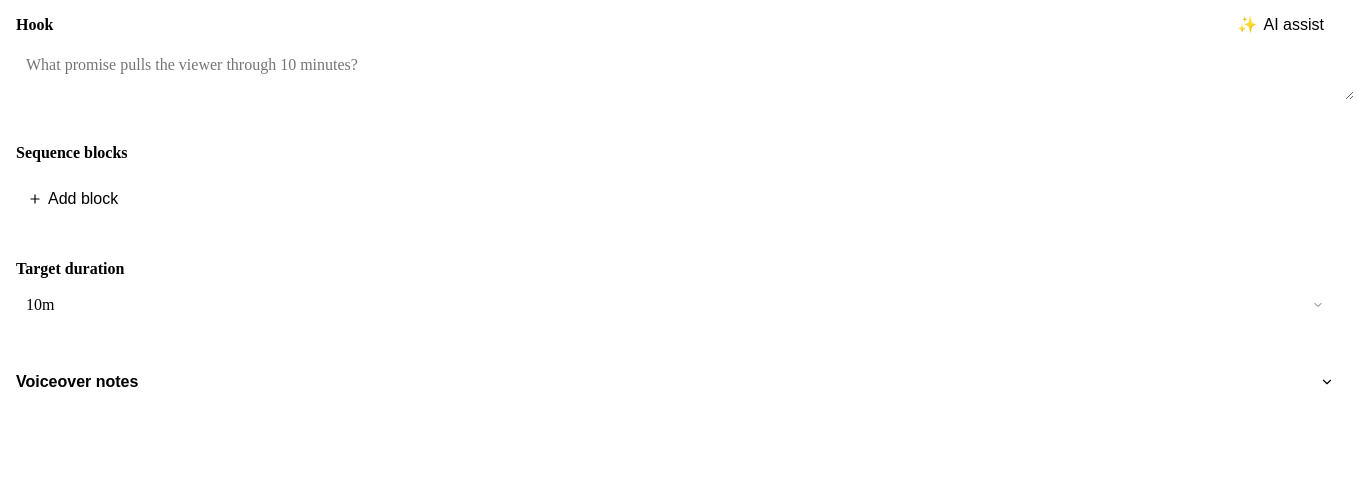
Test case: VideoLongBuilderComponent › Voiceover toggle flips aria-expanded
Click the button with class "collapse-toggle": click(77, 382) [16, 365, 1334, 399]
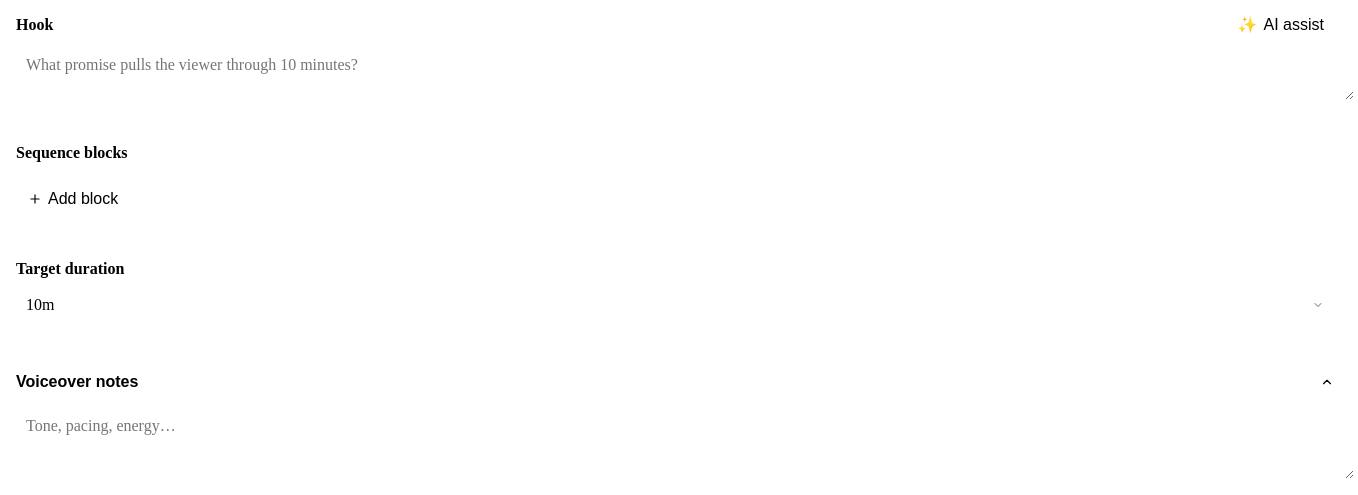
Check: the button with class "collapse-toggle" is expanded, box [16, 365, 1334, 399]
